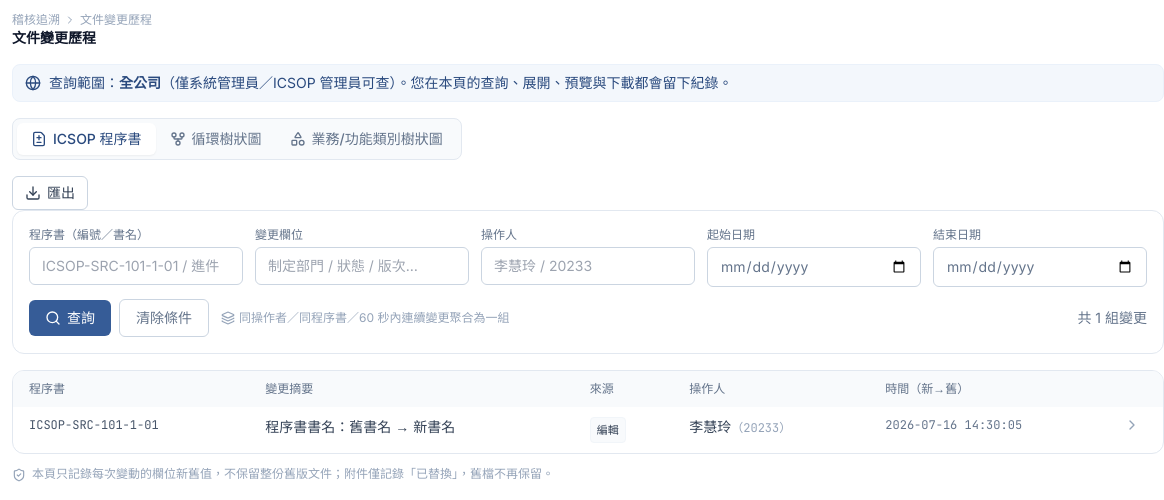
Test: ChangeHistoryPage — F043 戊：第三個 tab「業務/功能類別樹狀圖」 › 切至第三個 tab → 渲染事件清單（類別顯示名／變更摘要／操作人）
What coordinates should you click on to do the following:
click the button "業務/功能類別樹狀圖"
I would click on:
 (366, 139)
Its box is [276,123,457,155].
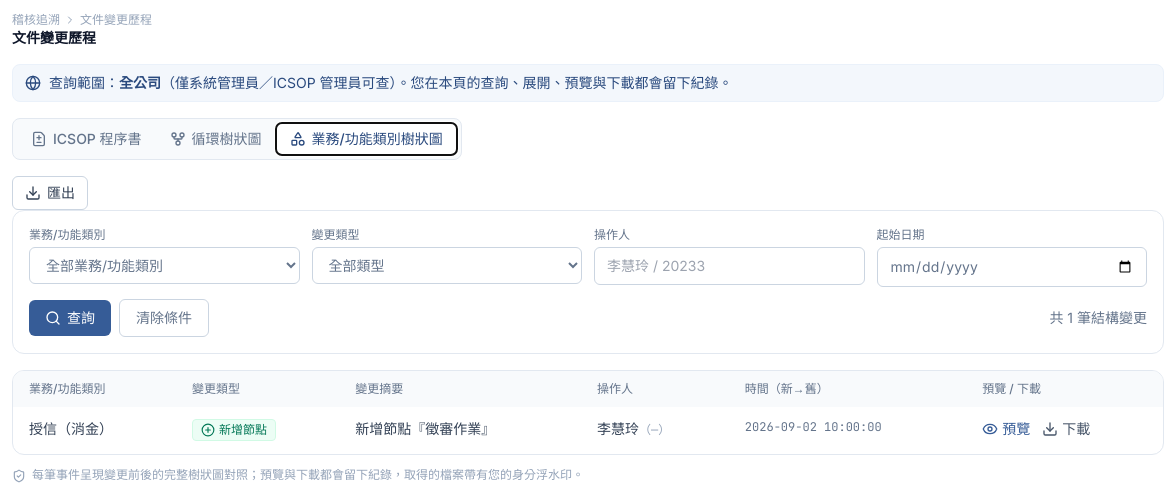
expect the text "新增節點『徵審作業』" is shown: met, box [339,407,581,454]
